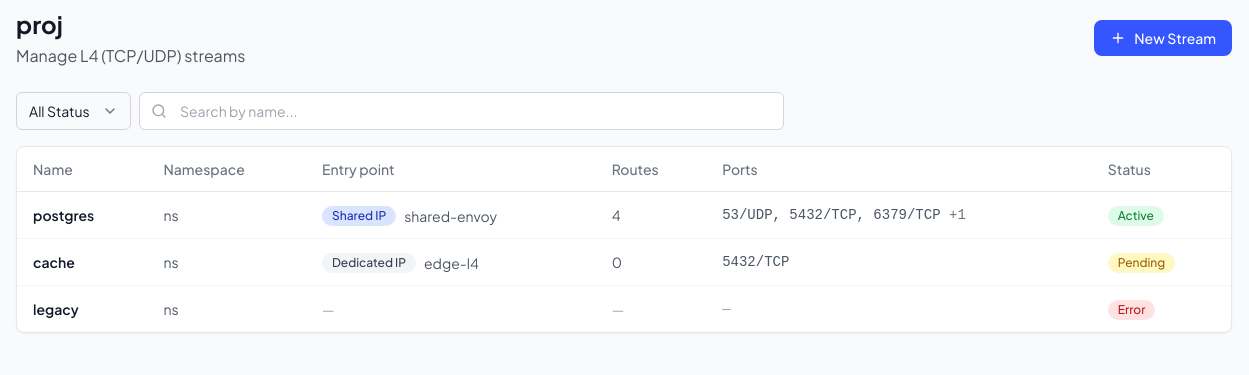
Scenario: a filter that matches nothing offers Clear Filters
Expected: the link "postgres" is shown, [33,206,94,224]
Type "nope" into the field named "Search streams by name" at [462, 111], box [139,92,784,130]
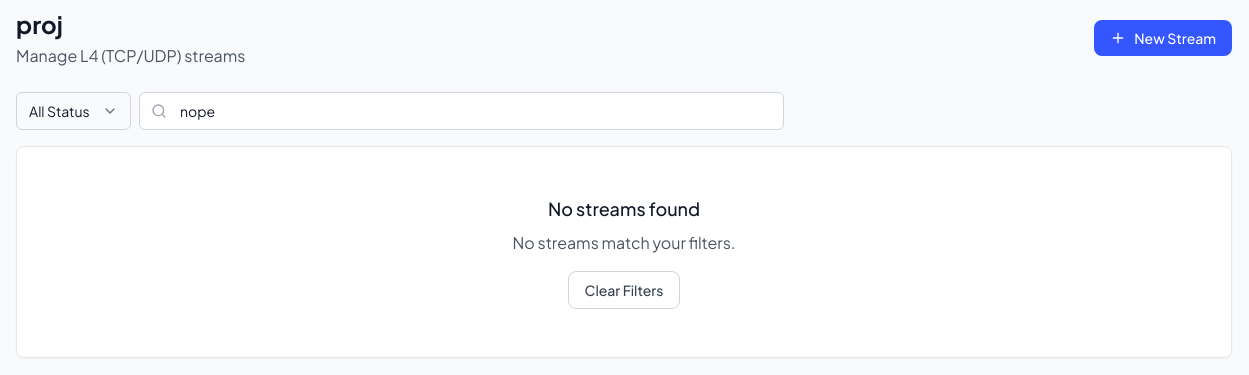
Now the heading "No streams found" is shown, box [548,197,700,220]
Click the button "Clear Filters" at [624, 290], box [568,271,680,309]
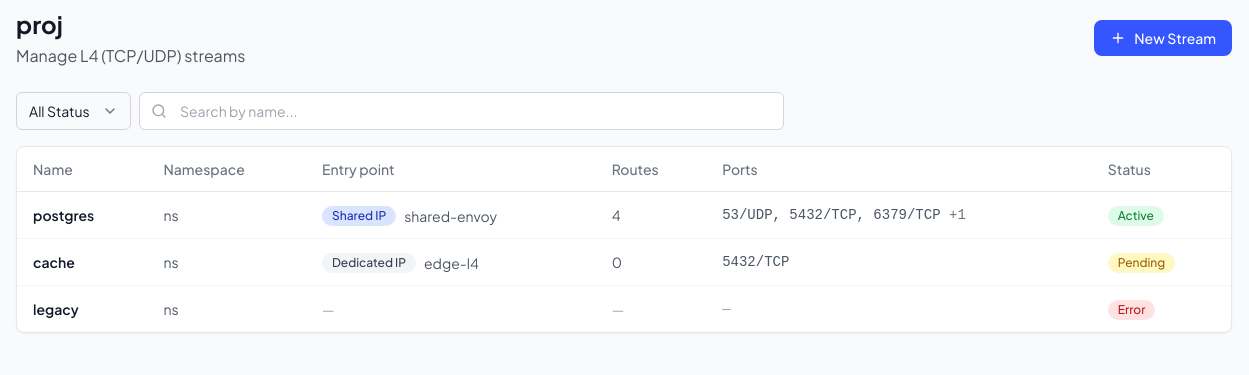
Now the link "postgres" is shown, box [33,206,94,224]
